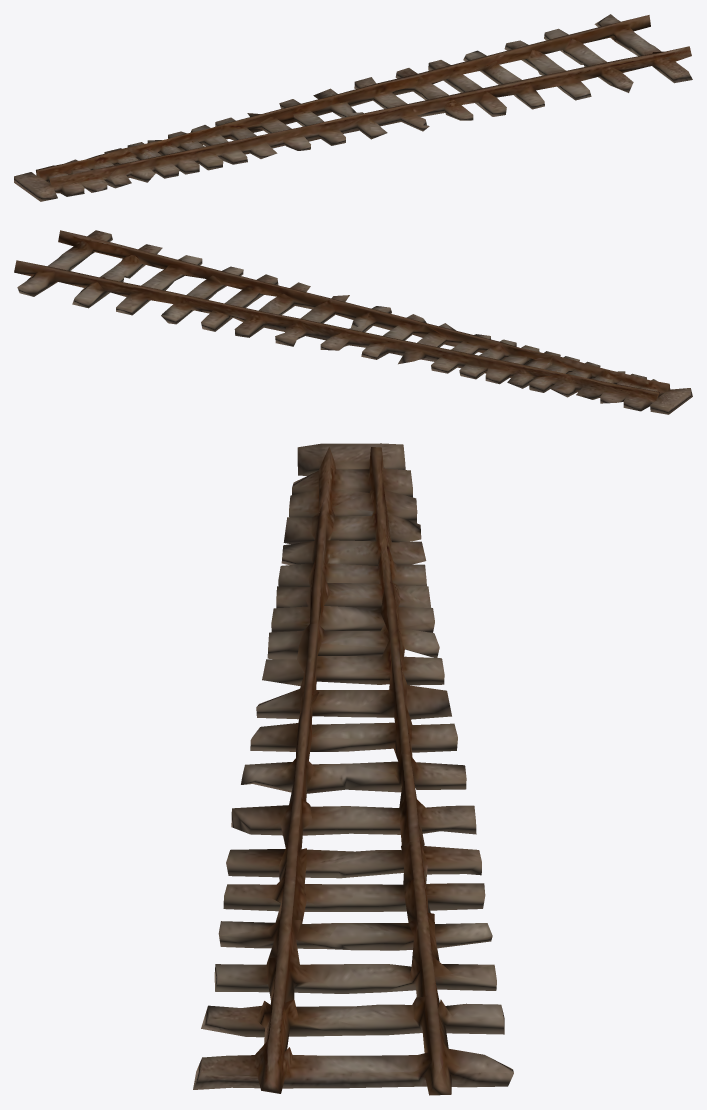
File: mine_rail.bfbe029f54.glb
The picture shows the model from 3 angles, top to bottom: view 1: azimuth 30°, elevation 25°; view 2: azimuth 150°, elevation 25°; view 3: azimuth 270°, elevation 25°; orthographic projection. The views are drawn at different scales.
Parts seen in each view (by area): view 1: mine_rail; view 2: mine_rail; view 3: mine_rail.
Part boxes in pixels (x1,y1,x2,y2): mine_rail: [14, 14, 692, 201]; mine_rail: [14, 230, 692, 414]; mine_rail: [193, 443, 513, 1095].
Bounding box in the file's own units: 6 × 0.2234 × 1.3.
1 material, 1 textured.
